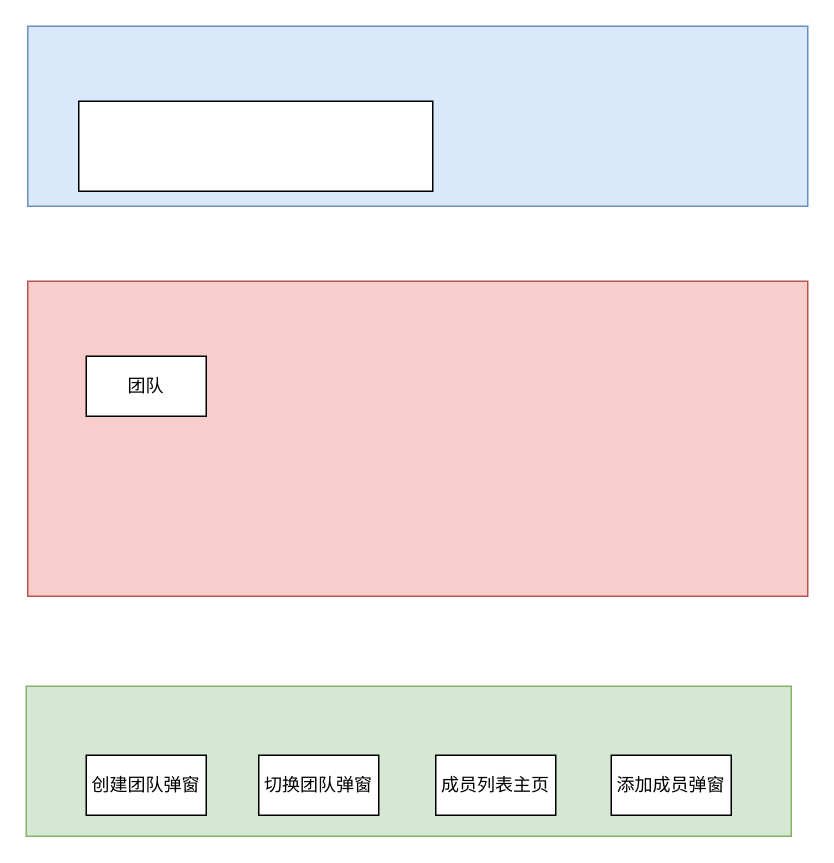
This 834x863 diagram has some shape labels left out. The shapes that lost their labels are listed below. From the top down, each one's centre as x and y in pixels, then its label:
At [255,145]: "用户信息Model User Business Model （staffId, IsAdmin, avatar, company,....）".
At [401,709]: "通讯录页面（view）".
